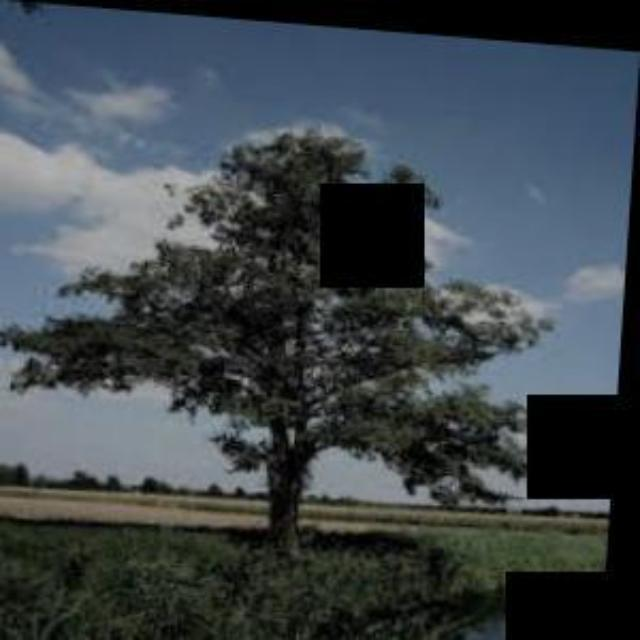tree: (0, 96, 598, 556)
